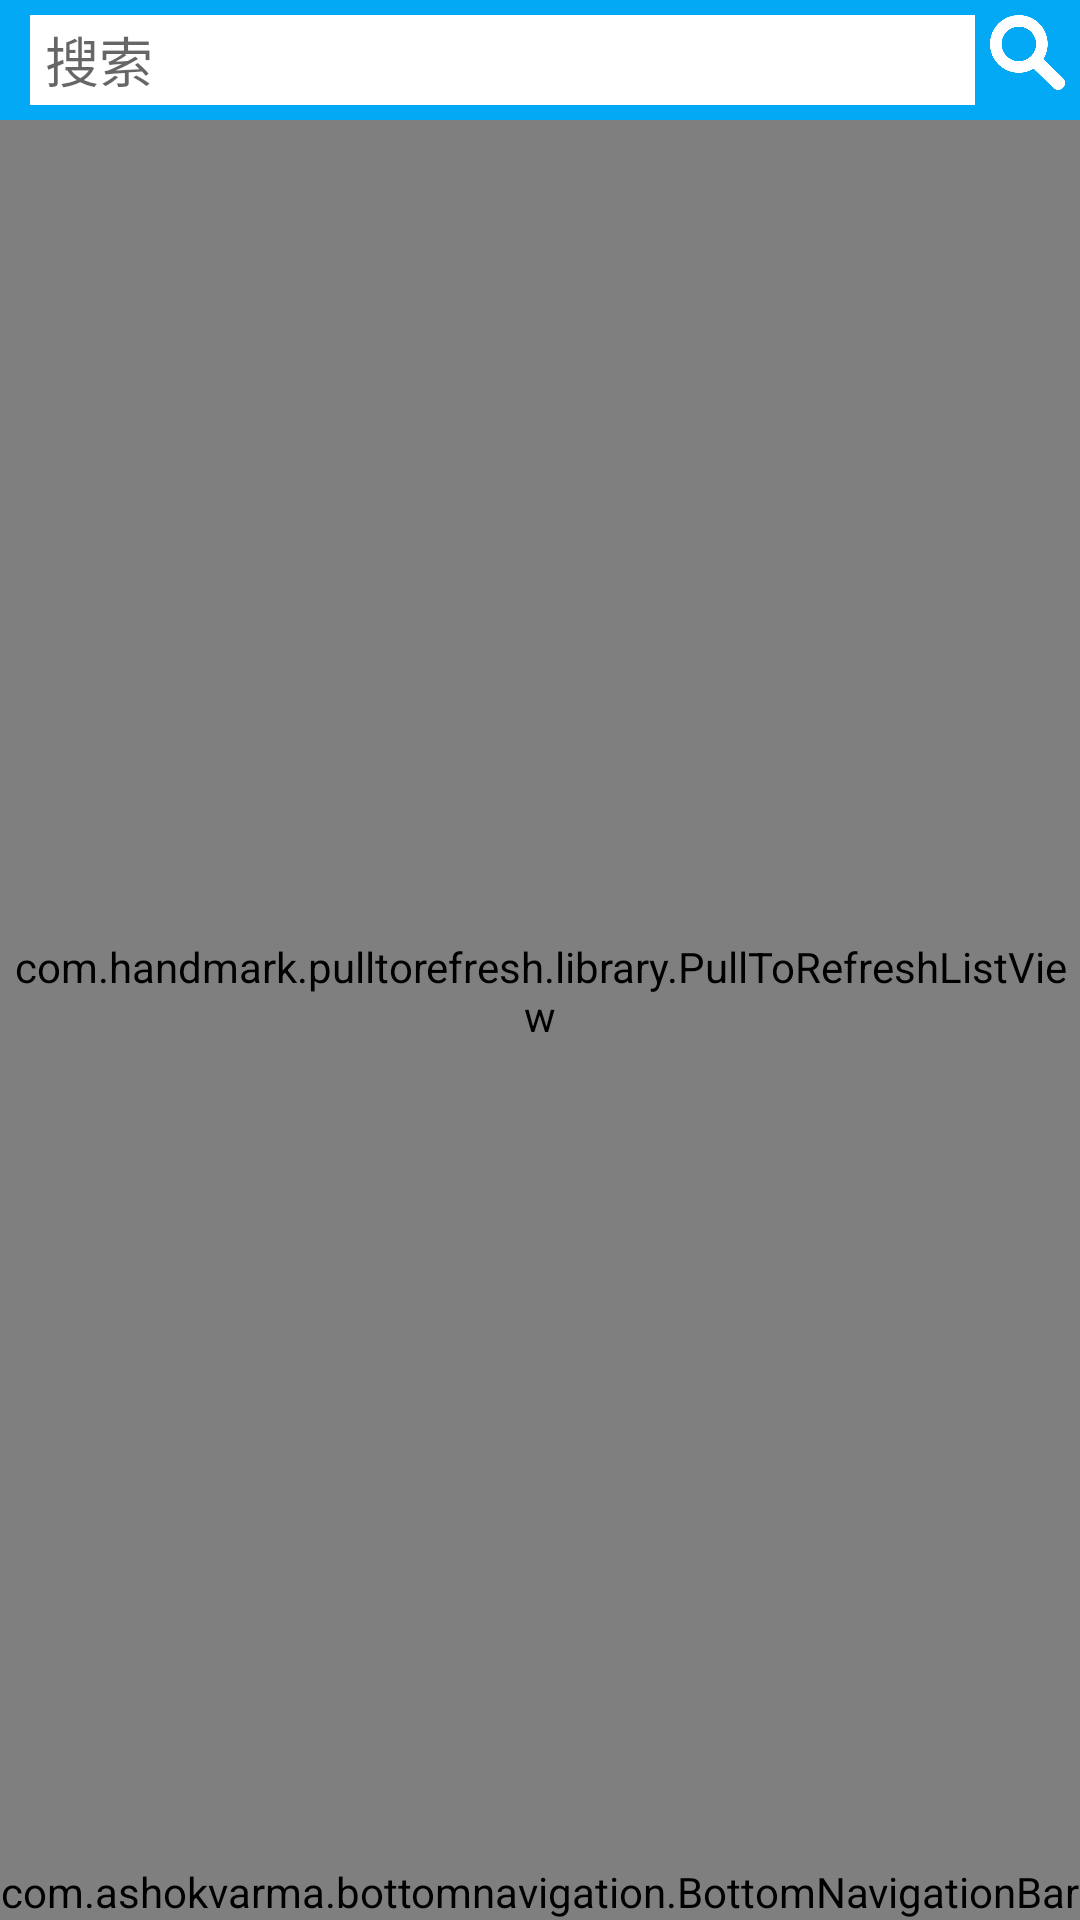

Point at icon controls on the screen. Image size 1080px x 1920px, points as (x=x, y=y).
search: (x=1027, y=52)
